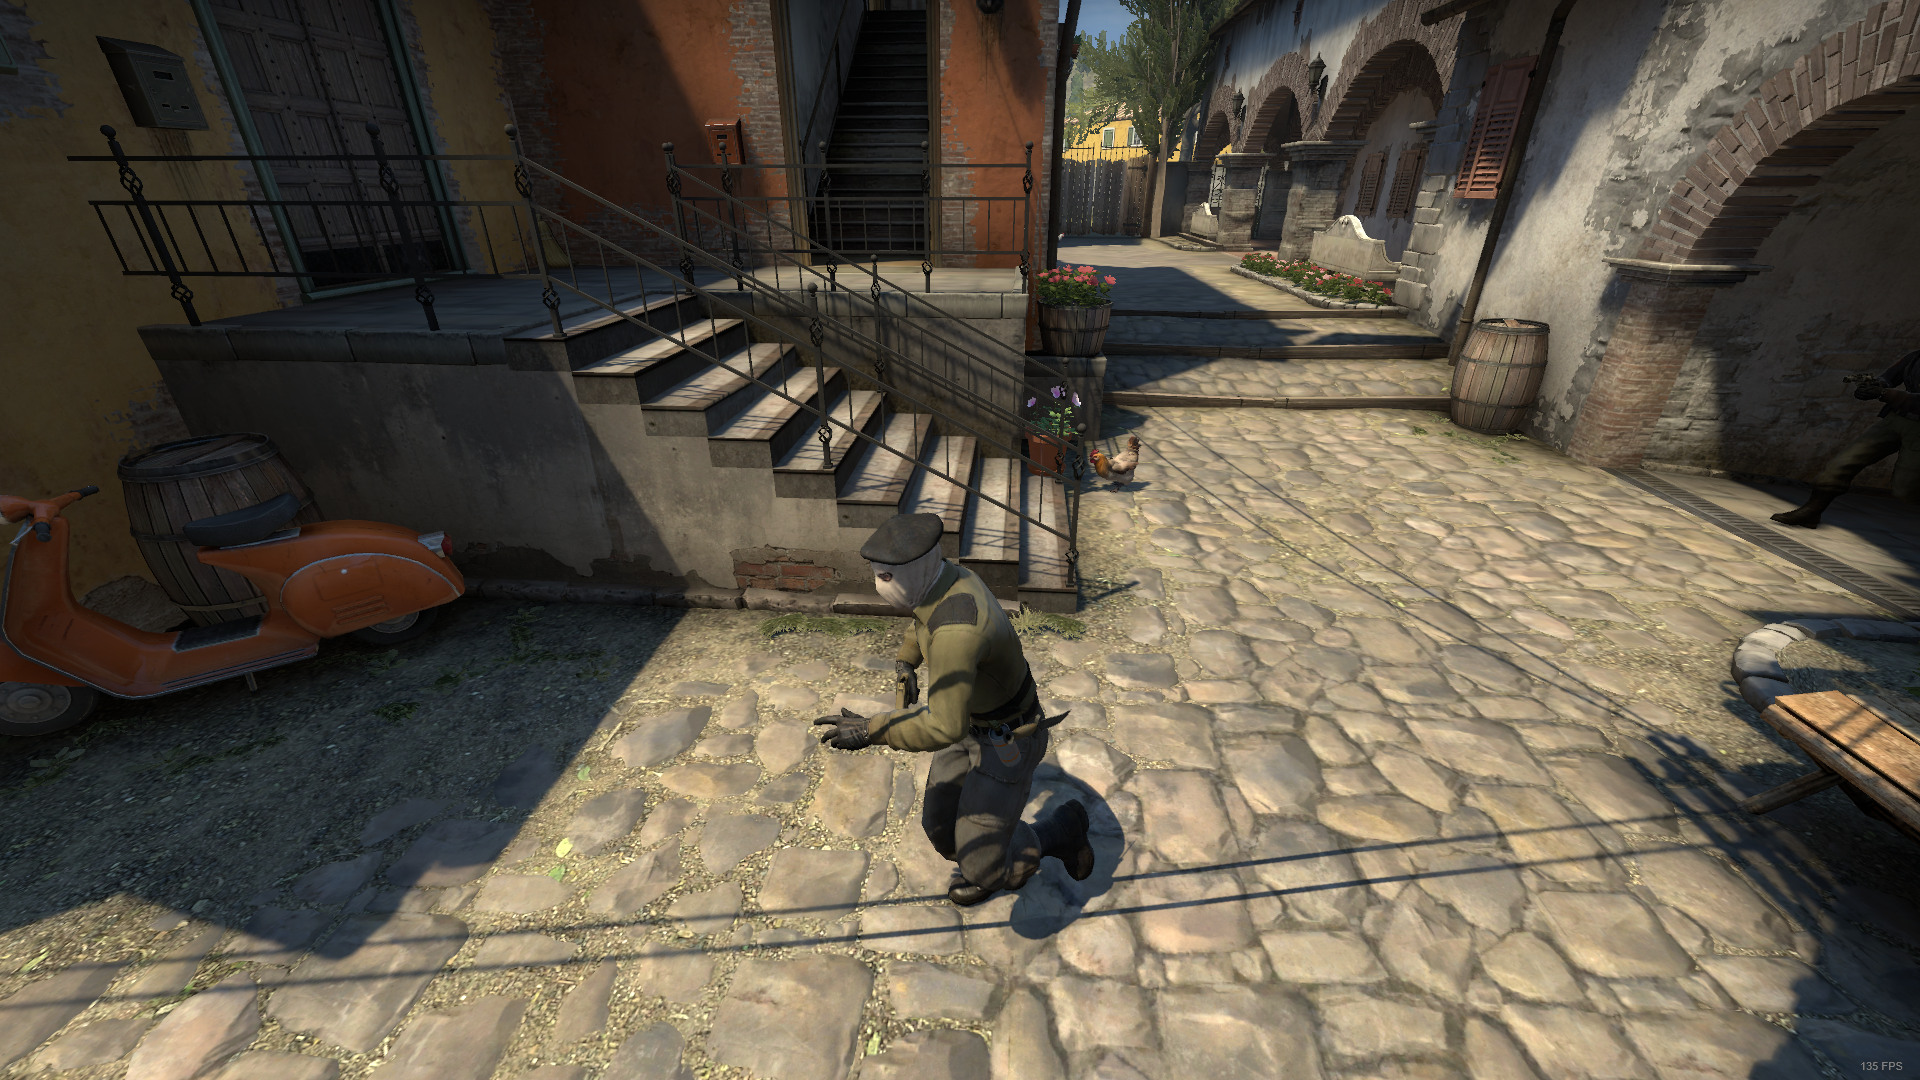t: (816, 512, 1097, 909)
